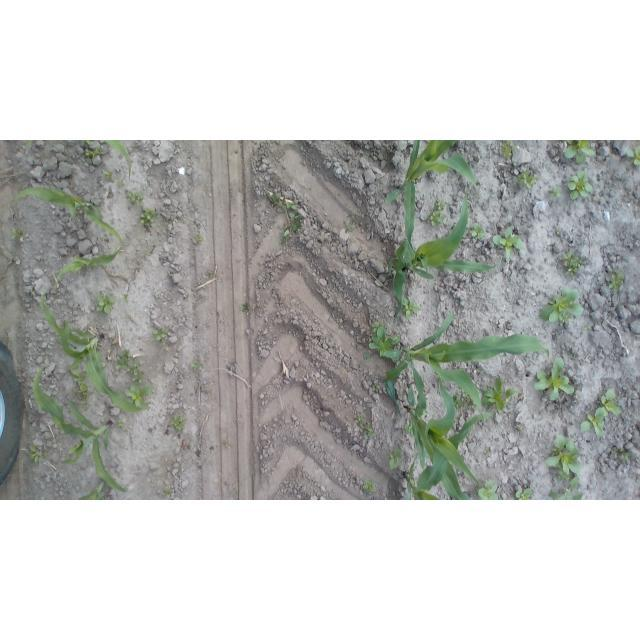Maize: (384, 310, 549, 419), (387, 181, 505, 318), (40, 290, 147, 411), (401, 360, 491, 500), (33, 363, 129, 494), (389, 141, 476, 254), (13, 187, 123, 244), (56, 246, 122, 287), (401, 452, 441, 500), (106, 140, 133, 180), (76, 480, 108, 501), (26, 141, 36, 152), (86, 141, 91, 146)
Weeds: (533, 355, 575, 401), (271, 192, 306, 246), (538, 284, 582, 325), (548, 433, 584, 478), (369, 320, 402, 360), (481, 377, 516, 412), (490, 226, 524, 261), (114, 348, 145, 382), (547, 476, 584, 500), (567, 170, 594, 201), (564, 140, 594, 164), (596, 388, 621, 415), (579, 413, 605, 437), (73, 383, 100, 406), (562, 249, 584, 276), (125, 384, 150, 405), (606, 267, 626, 293), (356, 411, 375, 437), (478, 478, 500, 500), (96, 292, 115, 317), (402, 297, 422, 319), (516, 168, 538, 188), (28, 444, 48, 465), (125, 188, 146, 207), (139, 206, 158, 226), (499, 140, 517, 160), (389, 448, 403, 472), (170, 413, 187, 431), (343, 216, 358, 235), (151, 325, 170, 340), (427, 211, 445, 226), (626, 148, 640, 167), (69, 369, 87, 383), (84, 147, 101, 161), (516, 486, 533, 500), (11, 227, 26, 242), (548, 184, 562, 200), (363, 476, 376, 493), (471, 222, 484, 239), (102, 168, 115, 185), (620, 447, 633, 461), (189, 360, 203, 371), (404, 421, 415, 435), (240, 302, 251, 314), (436, 199, 447, 211), (116, 419, 127, 429), (454, 396, 463, 408), (122, 292, 131, 303), (165, 488, 174, 499), (196, 231, 203, 243), (119, 175, 125, 188), (372, 384, 380, 393), (364, 350, 372, 358), (584, 322, 592, 330), (556, 227, 563, 236), (230, 489, 237, 496), (461, 390, 467, 398), (484, 449, 490, 457), (611, 446, 617, 454), (471, 403, 477, 409), (208, 271, 213, 277), (223, 441, 229, 446)
